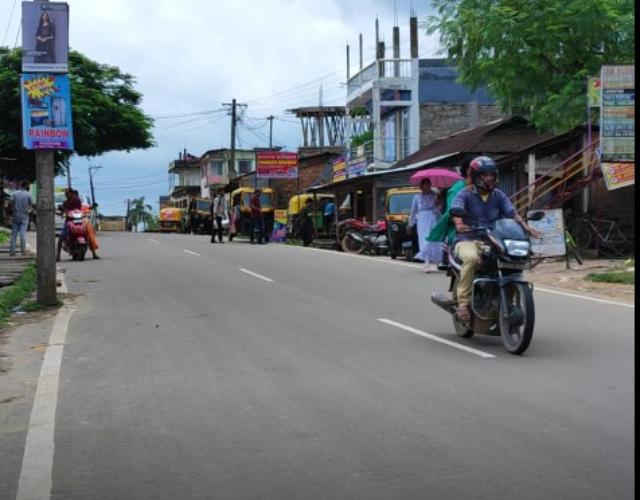licensePlate: (497, 262, 535, 273)
motorcycle: (428, 148, 544, 356)
withHelmet: (470, 154, 501, 195)
